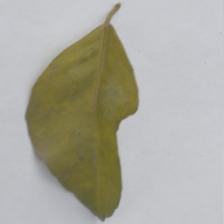greening: (25, 31, 112, 204)
